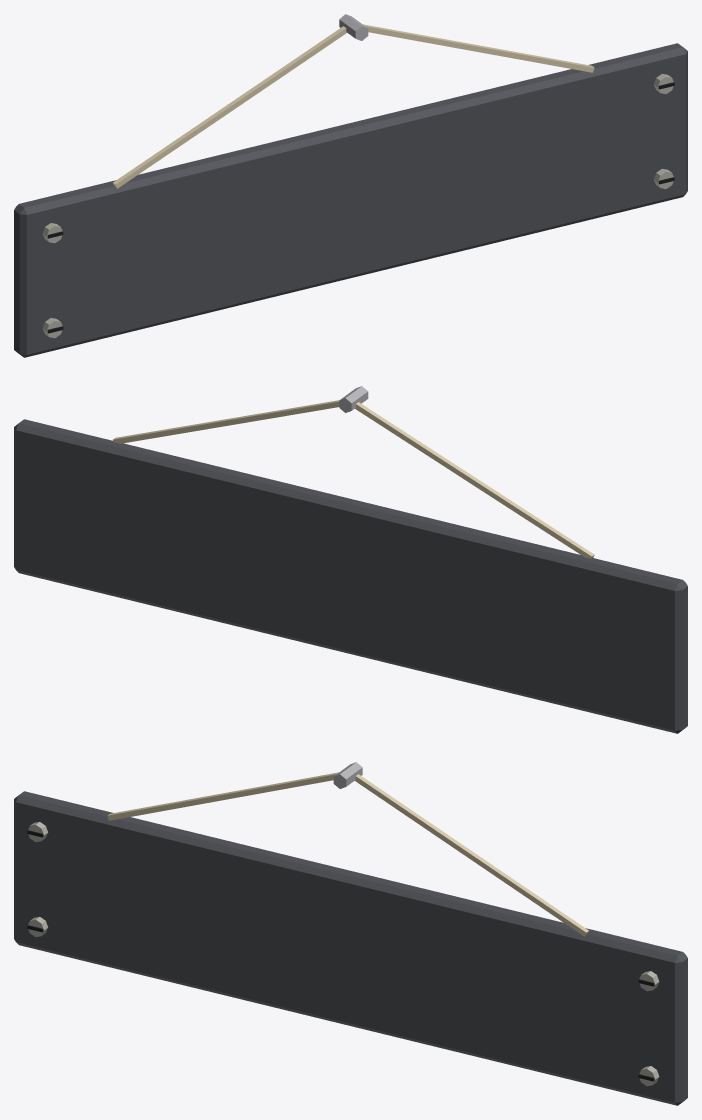
Rendered from switch.upgrade-panel.glb.
The picture shows the model from 3 angles, top to bottom: view 1: azimuth 30°, elevation 25°; view 2: azimuth 150°, elevation 25°; view 3: azimuth 330°, elevation 25°; orthographic projection.
Parts seen in each view (by area): view 1: plate, string, string2; view 2: plate, string, string2; view 3: plate, string2, string.
Boxes of the visible parts, left/top/right/bottom form: plate: left=14, top=43, right=687, bottom=357; string: left=113, top=26, right=346, bottom=188; string2: left=363, top=24, right=594, bottom=72; plate: left=14, top=419, right=687, bottom=733; string: left=355, top=402, right=594, bottom=558; string2: left=113, top=400, right=339, bottom=443; plate: left=14, top=791, right=687, bottom=1105; string2: left=355, top=774, right=588, bottom=936; string: left=107, top=772, right=338, bottom=820.
Size of the model in its own units: 0.28 by 0.103 by 0.012.
